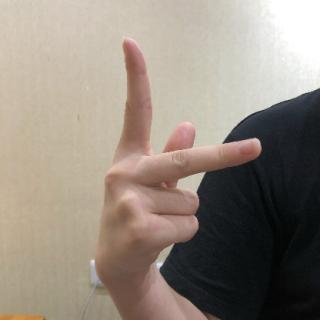DHAA: (93, 30, 270, 288)
